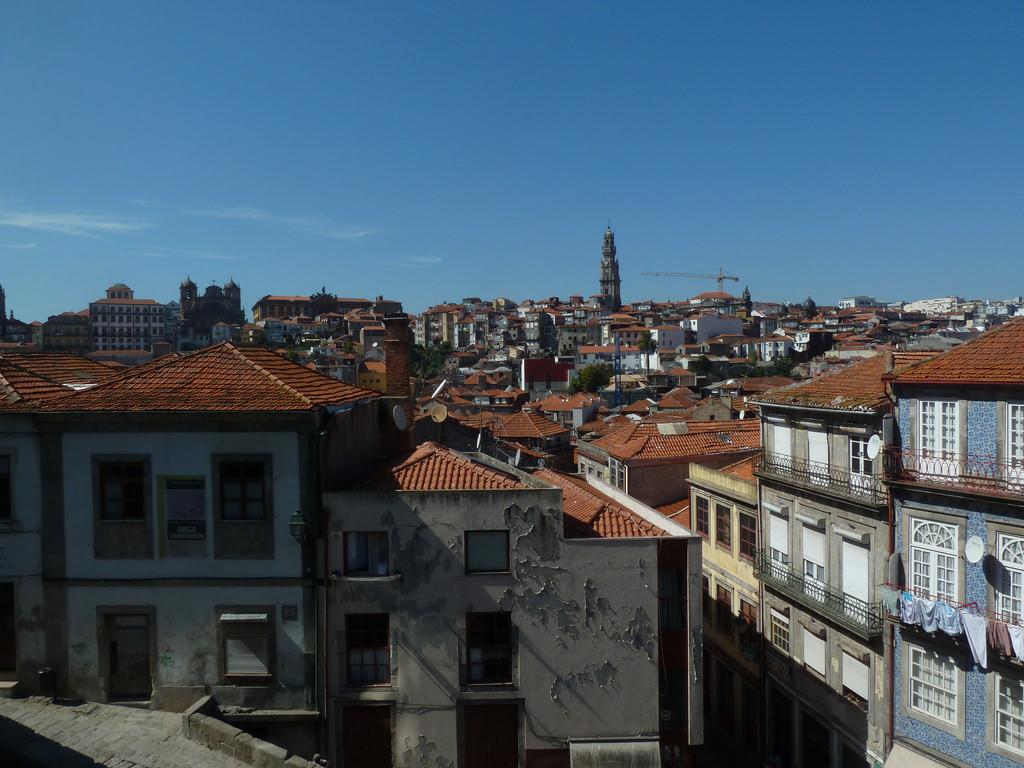clerigos: (598, 215, 621, 312)
